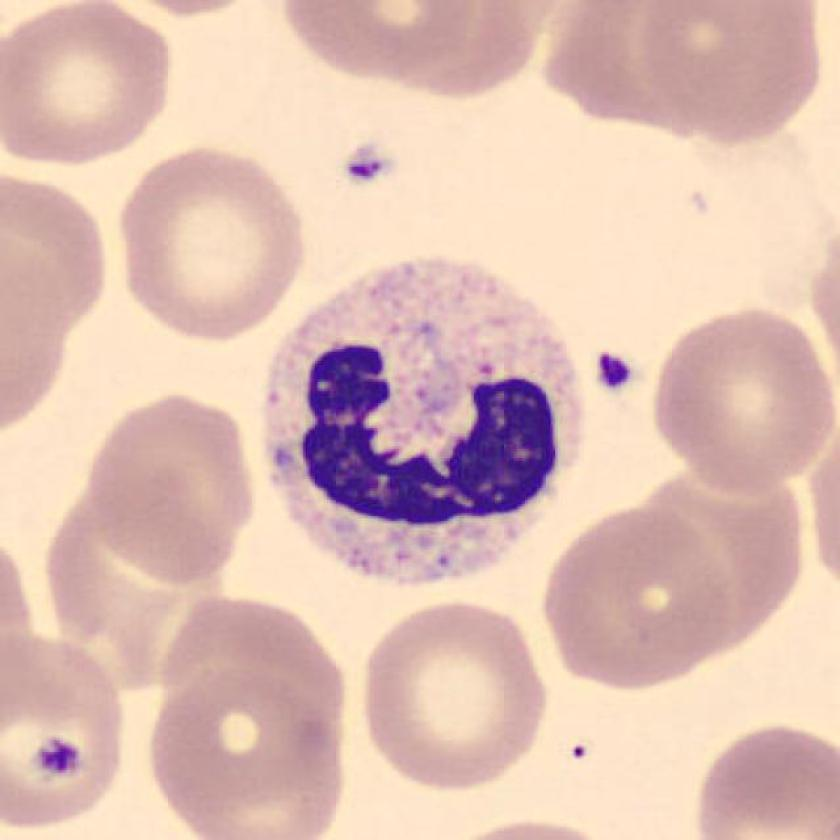neutrophil: (263, 257, 587, 584)
